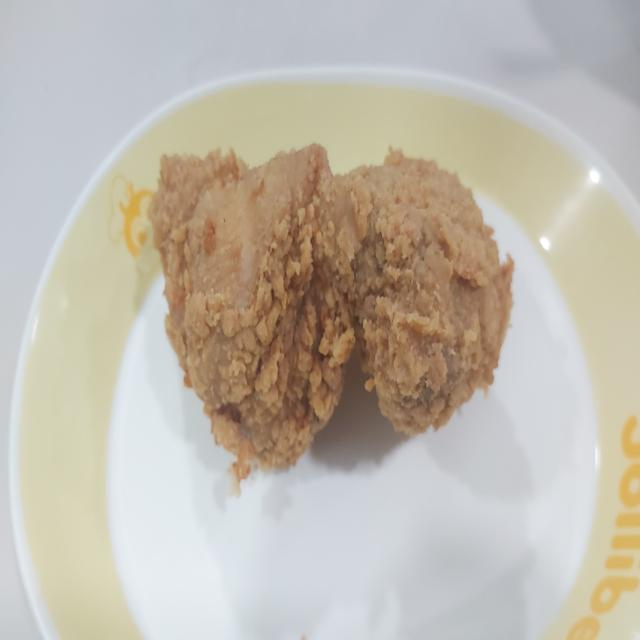Chicken -Fried Chicken-: (146, 141, 522, 487)
